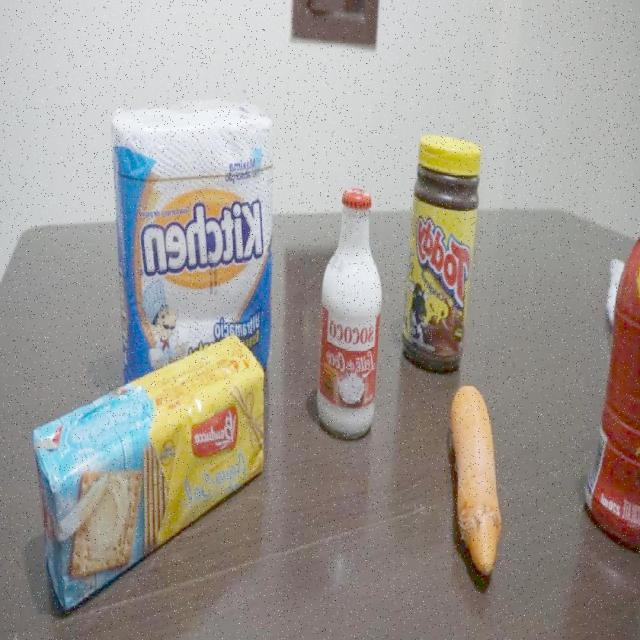Carrot: (448, 382, 506, 584)
ChocolateMilk: (583, 219, 640, 553)
ChocolatePowder: (400, 133, 482, 374)
CoconutMilk: (316, 186, 382, 440)
Cracker: (31, 333, 266, 614)
Napkin: (110, 99, 276, 348)
